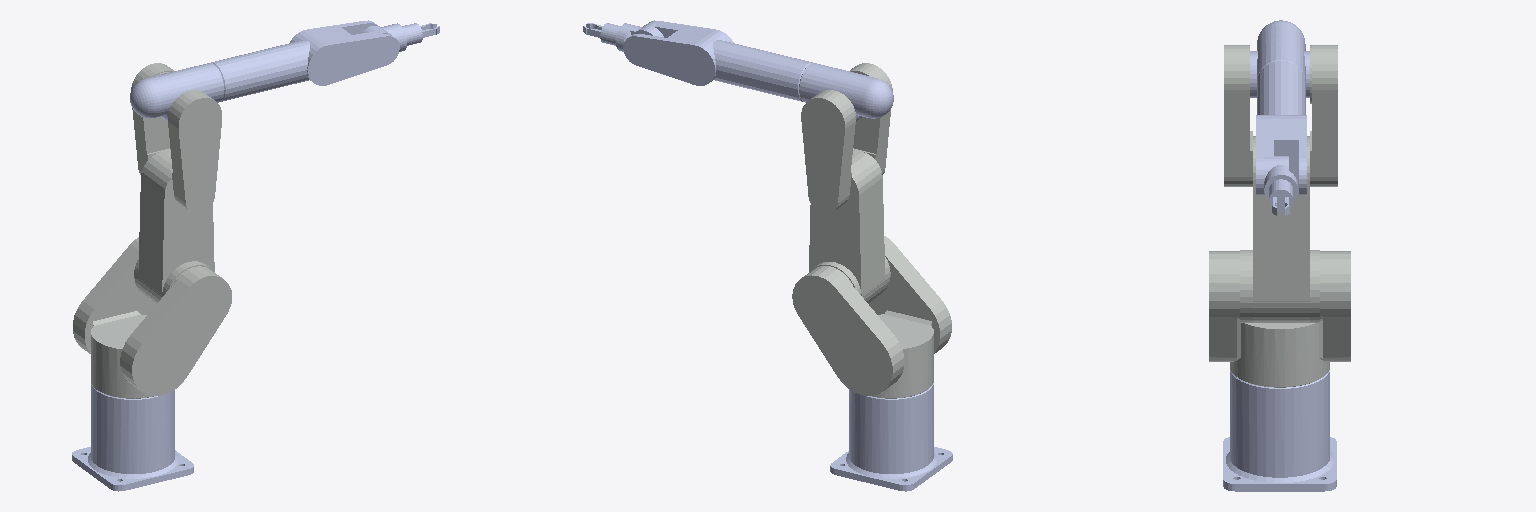
robot.urdf — robot_yuzi_urdf:
<?xml version="1.0" encoding="utf-8"?>
<!-- This URDF was automatically created by SolidWorks to URDF Exporter! Originally created by [author] ([email redacted]) 
     Commit Version: 1.6.0-4-g7f85cfe  Build Version: 1.6.7995.38578
     For more information, please see http://wiki.ros.org/sw_urdf_exporter -->
<robot
  name="robot_yuzi_urdf">
  <link
    name="base_link_yuzi">
    <inertial>
      <origin
        xyz="-5.25107086452931E-18 -9.69114882893545E-18 0.131559716820544"
        rpy="0 0 0" />
      <mass
        value="13.926198063469" />
      <inertia
        ixx="0.150359375184122"
        ixy="6.0351097491869E-18"
        ixz="-1.94834723594448E-17"
        iyy="0.150359375184122"
        iyz="-1.44976161137733E-17"
        izz="0.11575755967506" />
    </inertial>
    <visual>
      <origin
        xyz="0 0 0"
        rpy="0 0 0" />
      <geometry>
        <mesh
          filename="package://my_robot_urdf/meshes/base_link_yuzi.STL" />
      </geometry>
      <material
        name="">
        <color
          rgba="0.792156862745098 0.819607843137255 0.933333333333333 1" />
      </material>
    </visual>
    <collision>
      <origin
        xyz="0 0 0"
        rpy="0 0 0" />
      <geometry>
        <mesh
          filename="package://my_robot_urdf/meshes/base_link_yuzi.STL" />
      </geometry>
    </collision>
  </link>
  <link
    name="arm_link_1_yuzi">
    <inertial>
      <origin
        xyz="0.0393277653963038 1.00151935086465E-07 0.150866622191122"
        rpy="0 0 0" />
      <mass
        value="17.6840361237851" />
      <inertia
        ixx="0.387077403080444"
        ixy="3.67268000731293E-07"
        ixz="-0.0824473388415476"
        iyy="0.281535059283111"
        iyz="6.77341185639246E-08"
        izz="0.349932526197817" />
    </inertial>
    <visual>
      <origin
        xyz="0 0 0"
        rpy="0 0 0" />
      <geometry>
        <mesh
          filename="package://my_robot_urdf/meshes/arm_link_1_yuzi.STL" />
      </geometry>
      <material
        name="">
        <color
          rgba="0.780392156862745 0.8 0.788235294117647 1" />
      </material>
    </visual>
    <collision>
      <origin
        xyz="0 0 0"
        rpy="0 0 0" />
      <geometry>
        <mesh
          filename="package://my_robot_urdf/meshes/arm_link_1_yuzi.STL" />
      </geometry>
    </collision>
  </link>
  <joint
    name="arm_joint_1_yuzi"
    type="revolute">
    <origin
      xyz="0 0 0.274"
      rpy="0 0 0" />
    <parent
      link="base_link_yuzi" />
    <child
      link="arm_link_1_yuzi" />
    <axis
      xyz="0 0 1" />
    <limit
      lower="-3.1416"
      upper="3.1416"
      effort="0"
      velocity="0" />
  </joint>
  <link
    name="arm_link_2_yuzi">
    <inertial>
      <origin
        xyz="5.931859369257E-07 -0.202994951659398 -0.00270543986390563"
        rpy="0 0 0" />
      <mass
        value="21.695061095067" />
      <inertia
        ixx="0.29491156513822"
        ixy="2.31415083687633E-06"
        ixz="1.23997830829163E-09"
        iyy="0.0783160010403902"
        iyz="0.000394743850237622"
        izz="0.301877815458434" />
    </inertial>
    <visual>
      <origin
        xyz="0 0 0"
        rpy="0 0 0" />
      <geometry>
        <mesh
          filename="package://my_robot_urdf/meshes/arm_link_2_yuzi.STL" />
      </geometry>
      <material
        name="">
        <color
          rgba="0.780392156862745 0.8 0.788235294117647 1" />
      </material>
    </visual>
    <collision>
      <origin
        xyz="0 0 0"
        rpy="0 0 0" />
      <geometry>
        <mesh
          filename="package://my_robot_urdf/meshes/arm_link_2_yuzi.STL" />
      </geometry>
    </collision>
  </link>
  <joint
    name="arm_joint_2_yuzi"
    type="revolute">
    <origin
      xyz="0.15 0 0.29"
      rpy="-1.5708 0 3.1416" />
    <parent
      link="arm_link_1_yuzi" />
    <child
      link="arm_link_2_yuzi" />
    <axis
      xyz="0 0 -1" />
    <limit
      lower="-1.5708"
      upper="1.5708"
      effort="0"
      velocity="0" />
  </joint>
  <link
    name="arm_link_3_yuzi">
    <inertial>
      <origin
        xyz="0.000448863422053053 -0.0261515151771508 -0.00178825757800023"
        rpy="0 0 0" />
      <mass
        value="4.48725682214162" />
      <inertia
        ixx="0.00921991972060868"
        ixy="4.02687063686657E-19"
        ixz="-7.15729755686699E-35"
        iyy="0.0233991913614871"
        iyz="1.50053365905829E-35"
        izz="0.0219081787552183" />
    </inertial>
    <visual>
      <origin
        xyz="0 0 0"
        rpy="0 0 0" />
      <geometry>
        <mesh
          filename="package://my_robot_urdf/meshes/arm_link_3_yuzi.STL" />
      </geometry>
      <material
        name="">
        <color
          rgba="0.792156862745098 0.819607843137255 0.933333333333333 1" />
      </material>
    </visual>
    <collision>
      <origin
        xyz="0 0 0"
        rpy="0 0 0" />
      <geometry>
        <mesh
          filename="package://my_robot_urdf/meshes/arm_link_3_yuzi.STL" />
      </geometry>
    </collision>
  </link>
  <joint
    name="arm_joint_3_yuzi"
    type="revolute">
    <origin
      xyz="0 -0.575 0"
      rpy="0 0 0" />
    <parent
      link="arm_link_2_yuzi" />
    <child
      link="arm_link_3_yuzi" />
    <axis
      xyz="0 0 -1" />
    <limit
      lower="-1.5708"
      upper="1.5708"
      effort="0"
      velocity="0" />
  </joint>
  <link
    name="arm_link_4_yuzi">
    <inertial>
      <origin
        xyz="6.66133814775094E-16 0.000932919736385606 0.288902507196118"
        rpy="0 0 0" />
      <mass
        value="7.8906783291211" />
      <inertia
        ixx="0.0897241931118627"
        ixy="-2.23893475246992E-19"
        ixz="-9.51519221962284E-19"
        iyy="0.0881400417573612"
        iyz="-0.000989909842324874"
        izz="0.0169814358788831" />
    </inertial>
    <visual>
      <origin
        xyz="0 0 0"
        rpy="0 0 0" />
      <geometry>
        <mesh
          filename="package://my_robot_urdf/meshes/arm_link_4_yuzi.STL" />
      </geometry>
      <material
        name="">
        <color
          rgba="0.792156862745098 0.819607843137255 0.933333333333333 1" />
      </material>
    </visual>
    <collision>
      <origin
        xyz="0 0 0"
        rpy="0 0 0" />
      <geometry>
        <mesh
          filename="package://my_robot_urdf/meshes/arm_link_4_yuzi.STL" />
      </geometry>
    </collision>
  </link>
  <joint
    name="arm_joint_4_yuzi"
    type="revolute">
    <origin
      xyz="-0.1295 -0.04 -0.003"
      rpy="1.5708 0 -1.5708" />
    <parent
      link="arm_link_3_yuzi" />
    <child
      link="arm_link_4_yuzi" />
    <axis
      xyz="0 0 1" />
    <limit
      lower="-3.1416"
      upper="3.1416"
      effort="0"
      velocity="0" />
  </joint>
  <link
    name="arm_link_5_yuzi">
    <inertial>
      <origin
        xyz="-0.0209881134676554 -1.11622497689368E-07 -0.00829305633881015"
        rpy="0 0 0" />
      <mass
        value="0.684392926448249" />
      <inertia
        ixx="0.000641087602858553"
        ixy="-1.13848125275888E-09"
        ixz="0.000110196226559993"
        iyy="0.00118845959430424"
        iyz="8.1268868198354E-12"
        izz="0.0013177404399051" />
    </inertial>
    <visual>
      <origin
        xyz="0 0 0"
        rpy="0 0 0" />
      <geometry>
        <mesh
          filename="package://my_robot_urdf/meshes/arm_link_5_yuzi.STL" />
      </geometry>
      <material
        name="">
        <color
          rgba="0.792156862745098 0.819607843137255 0.933333333333333 1" />
      </material>
    </visual>
    <collision>
      <origin
        xyz="0 0 0"
        rpy="0 0 0" />
      <geometry>
        <mesh
          filename="package://my_robot_urdf/meshes/arm_link_5_yuzi.STL" />
      </geometry>
    </collision>
  </link>
  <joint
    name="arm_joint_5_yuzi"
    type="revolute">
    <origin
      xyz="0 0 0.5455"
      rpy="1.5708 1.5708 0" />
    <parent
      link="arm_link_4_yuzi" />
    <child
      link="arm_link_5_yuzi" />
    <axis
      xyz="0 0 1" />
    <limit
      lower="-1.5708"
      upper="1.5708"
      effort="0"
      velocity="0" />
  </joint>
  <link
    name="arm_link_6_yuzi">
    <inertial>
      <origin
        xyz="-1.11022302462516E-15 1.66967134562768E-15 0.0364608960848188"
        rpy="0 0 0" />
      <mass
        value="0.190738563830904" />
      <inertia
        ixx="0.000165744627457126"
        ixy="2.87815384189059E-22"
        ixz="-1.96348501644814E-20"
        iyy="0.000161337003377479"
        iyz="8.04929607286269E-21"
        izz="8.21544962643498E-05" />
    </inertial>
    <visual>
      <origin
        xyz="0 0 0"
        rpy="0 0 0" />
      <geometry>
        <mesh
          filename="package://my_robot_urdf/meshes/arm_link_6_yuzi.STL" />
      </geometry>
      <material
        name="">
        <color
          rgba="0.792156862745098 0.819607843137255 0.933333333333333 1" />
      </material>
    </visual>
    <collision>
      <origin
        xyz="0 0 0"
        rpy="0 0 0" />
      <geometry>
        <mesh
          filename="package://my_robot_urdf/meshes/arm_link_6_yuzi.STL" />
      </geometry>
    </collision>
  </link>
  <joint
    name="arm_joint_6_yuzi"
    type="revolute">
    <origin
      xyz="-0.085 0 0"
      rpy="-1.5708 0 1.5708" />
    <parent
      link="arm_link_5_yuzi" />
    <child
      link="arm_link_6_yuzi" />
    <axis
      xyz="0 0 1" />
    <limit
      lower="-3.1416"
      upper="3.1416"
      effort="0"
      velocity="0" />
  </joint>
  <link
    name="eef_link_yuzi">
    <inertial>
      <origin
        xyz="-0.00215923528943862 -1.34441069388203E-17 -0.0685050835227634"
        rpy="0 0 0" />
      <mass
        value="0.190738563830904" />
      <inertia
        ixx="0.000165661665669484"
        ixy="6.02940705304147E-22"
        ixz="-2.63209119423623E-06"
        iyy="0.000161337003377479"
        iyz="1.01035149151913E-20"
        izz="8.22374580519918E-05" />
    </inertial>
    <visual>
      <origin
        xyz="0 0 0"
        rpy="0 0 0" />
      <geometry>
        <mesh
          filename="package://my_robot_urdf/meshes/eef_link_yuzi.STL" />
      </geometry>
      <material
        name="">
        <color
          rgba="0.792156862745098 0.819607843137255 0.933333333333333 1" />
      </material>
    </visual>
    <collision>
      <origin
        xyz="0 0 0"
        rpy="0 0 0" />
      <geometry>
        <mesh
          filename="package://my_robot_urdf/meshes/eef_link_yuzi.STL" />
      </geometry>
    </collision>
  </link>
  <joint
    name="eef_joint_fixed_yuzi"
    type="fixed">
    <origin
      xyz="0 0 0.105"
      rpy="0 -0.031509 0" />
    <parent
      link="arm_link_6_yuzi" />
    <child
      link="eef_link_yuzi" />
    <axis
      xyz="0 0 0" />
  </joint>
</robot>

--- Render facts (derived) ---
3 views of the same robot in one strip: view 1: azimuth 30°, elevation 25°; view 2: azimuth 150°, elevation 25°; view 3: azimuth 270°, elevation 25° (orthographic).
Model robot_yuzi_urdf with 8 links and 7 joints (6 revolute, 1 fixed), rooted at base_link_yuzi, posed all joints at 0.
Links seen in each view (by area): view 1: arm_link_1_yuzi, arm_link_2_yuzi, base_link_yuzi, arm_link_4_yuzi, arm_link_3_yuzi; view 2: arm_link_1_yuzi, arm_link_2_yuzi, base_link_yuzi, arm_link_4_yuzi, arm_link_3_yuzi, arm_link_5_yuzi; view 3: arm_link_2_yuzi, arm_link_1_yuzi, base_link_yuzi, arm_link_4_yuzi, arm_link_3_yuzi, arm_link_5_yuzi, arm_link_6_yuzi.
Link boxes in pixels (x1,y1,x2,y2): arm_link_1_yuzi: (73, 237, 231, 398); arm_link_2_yuzi: (131, 63, 221, 303); base_link_yuzi: (72, 384, 193, 491); arm_link_4_yuzi: (211, 20, 399, 101); arm_link_3_yuzi: (130, 63, 224, 121); arm_link_1_yuzi: (792, 236, 951, 398); arm_link_2_yuzi: (801, 63, 892, 302); base_link_yuzi: (830, 383, 952, 491); arm_link_4_yuzi: (623, 20, 812, 101); arm_link_3_yuzi: (799, 63, 893, 121); arm_link_5_yuzi: (616, 23, 663, 51); arm_link_2_yuzi: (1224, 45, 1337, 322); arm_link_1_yuzi: (1209, 251, 1350, 387); base_link_yuzi: (1223, 370, 1336, 491); arm_link_4_yuzi: (1256, 61, 1306, 194); arm_link_3_yuzi: (1250, 20, 1309, 97); arm_link_5_yuzi: (1264, 156, 1297, 200); arm_link_6_yuzi: (1269, 179, 1292, 215).
Size in the robot's own frame: 1.18 by 0.35 by 1.24 metres.
8 mesh visuals loaded from 8 distinct referenced files (8 binary STL).
